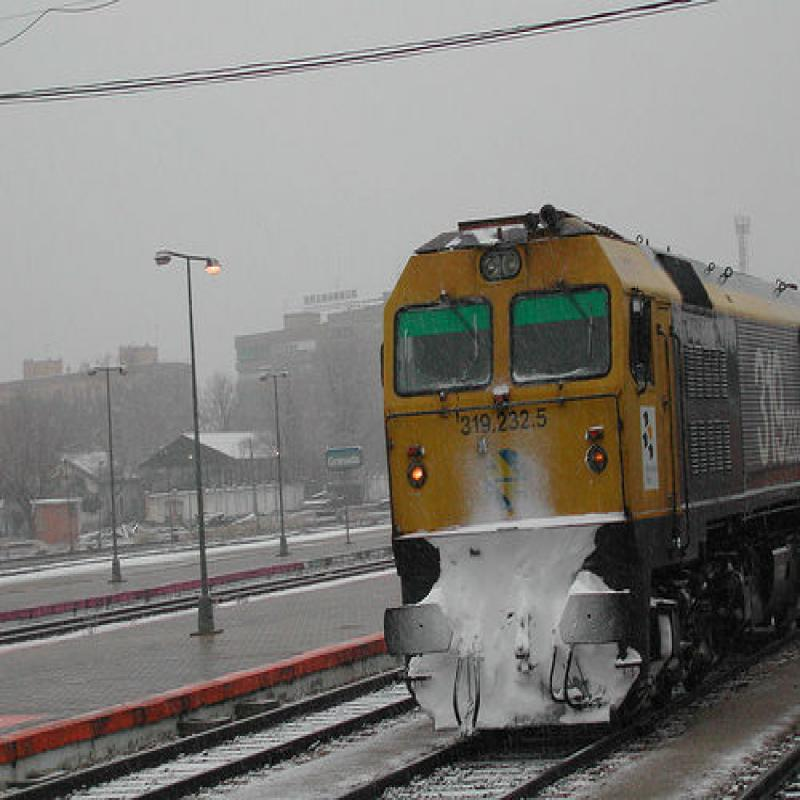train: (384, 206, 800, 737)
